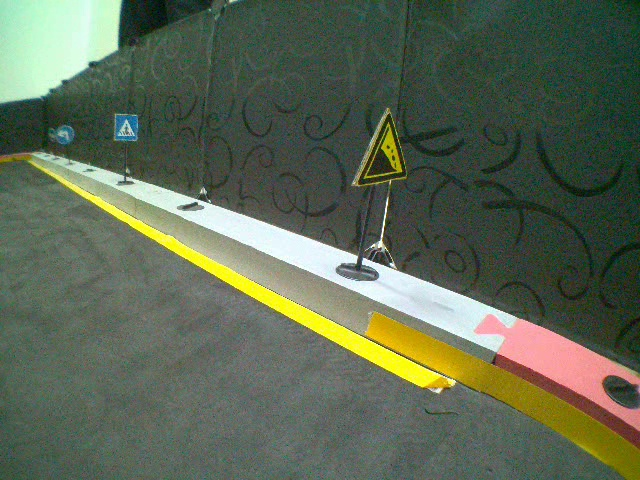crossing: (116, 113, 138, 140)
fast: (351, 107, 409, 184)
turn: (55, 126, 75, 144)
